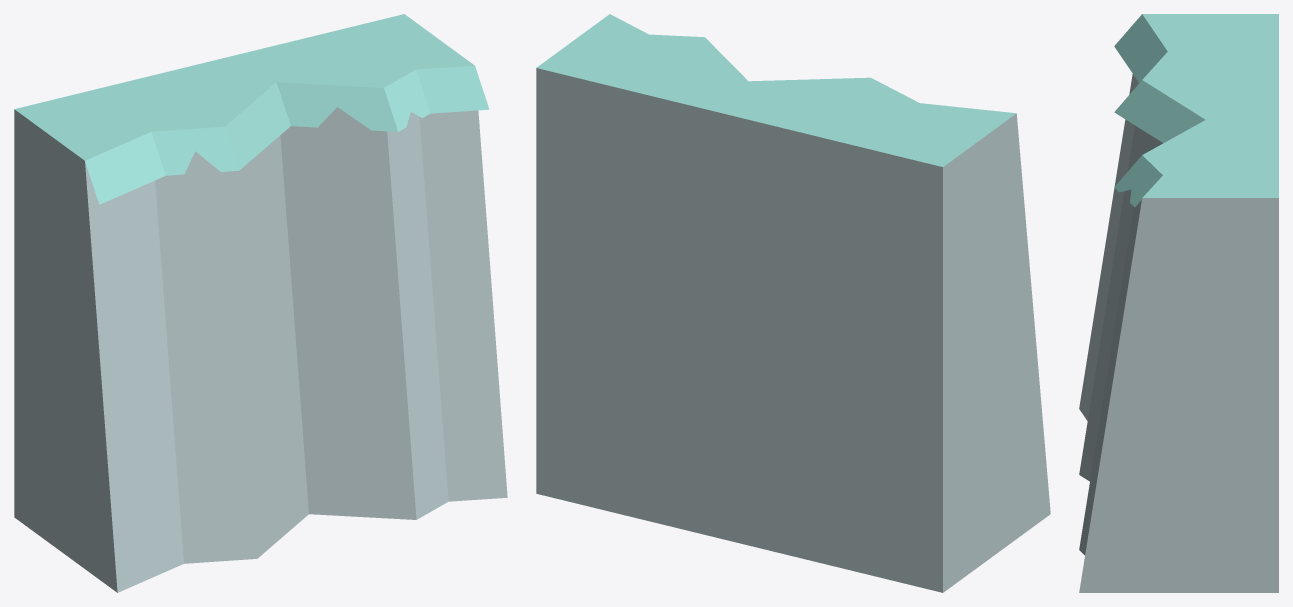
The model's file is cliffGrey_top.glb.
3 renders of one model, left to right at view 1: azimuth 30°, elevation 25°; view 2: azimuth 150°, elevation 25°; view 3: azimuth 270°, elevation 25°, orthographic. The views are drawn at different scales.
Parts seen in each view (by area): view 1: cliffGrey_top; view 2: cliffGrey_top; view 3: cliffGrey_top.
Part boxes in pixels (x1=…): cliffGrey_top: x1=14, y1=14, x2=507, y2=592; cliffGrey_top: x1=536, y1=14, x2=1050, y2=592; cliffGrey_top: x1=1079, y1=14, x2=1278, y2=592.
Size of the model in its own units: 1 by 1 by 0.4584.
